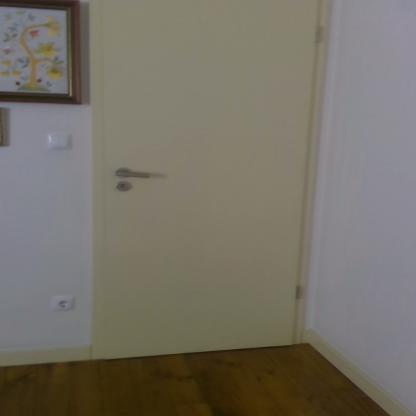door: (100, 0, 300, 348)
hinged: (314, 22, 324, 44), (292, 283, 304, 300)
lever: (114, 167, 156, 182)
